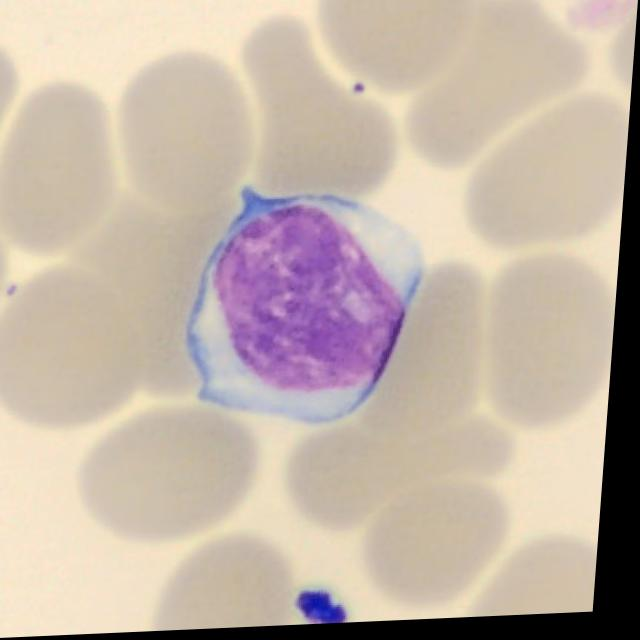Linfocito atipico: (188, 192, 430, 430)
